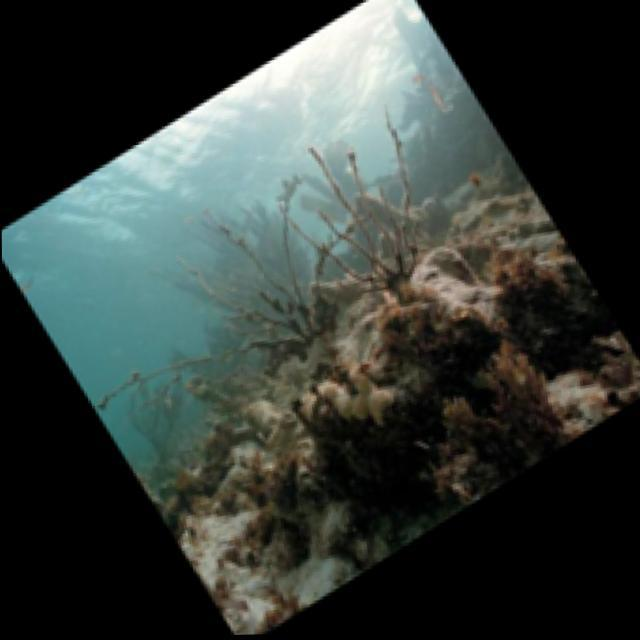Dead Coral: (300, 284, 624, 520)
